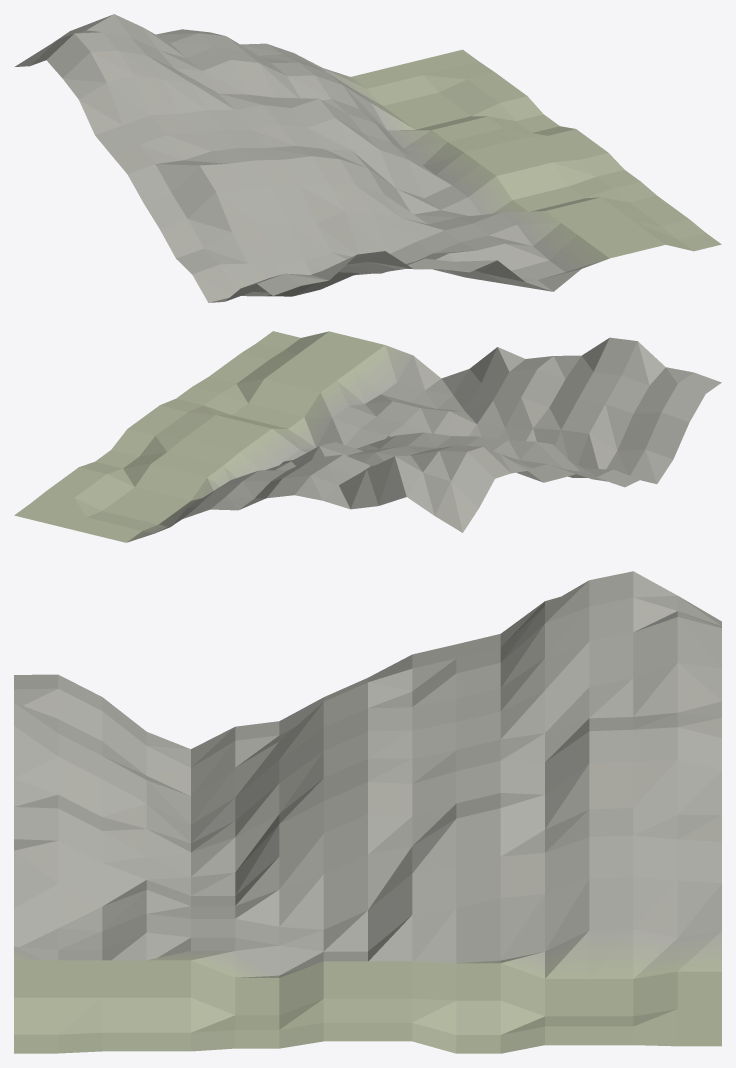
The picture shows the model from 3 angles, top to bottom: view 1: azimuth 30°, elevation 25°; view 2: azimuth 150°, elevation 25°; view 3: azimuth 270°, elevation 25°; orthographic projection. The views are drawn at different scales.
Size of the model in its own units: 32 by 10.84 by 32.
